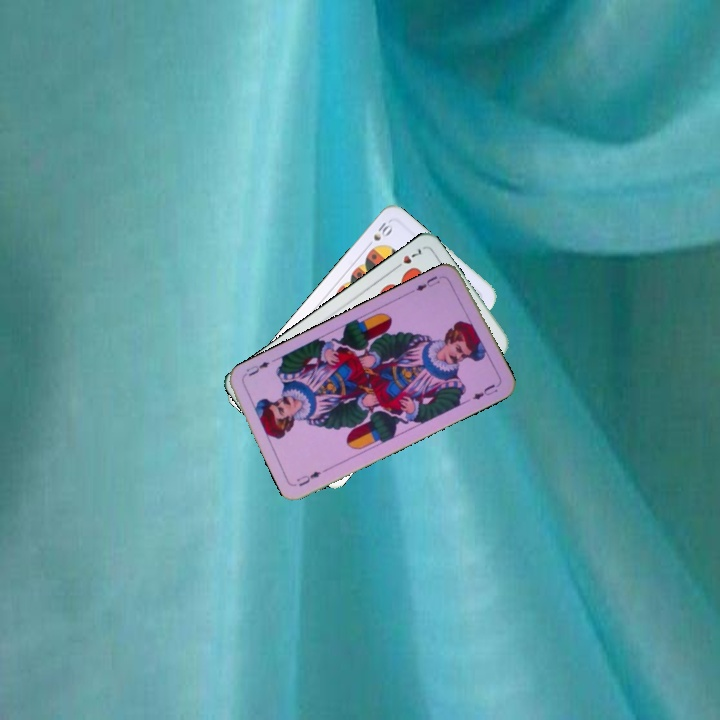EU: (412, 272, 447, 294), (293, 467, 323, 489)
H7: (390, 244, 426, 272)
S10: (362, 217, 396, 251)
